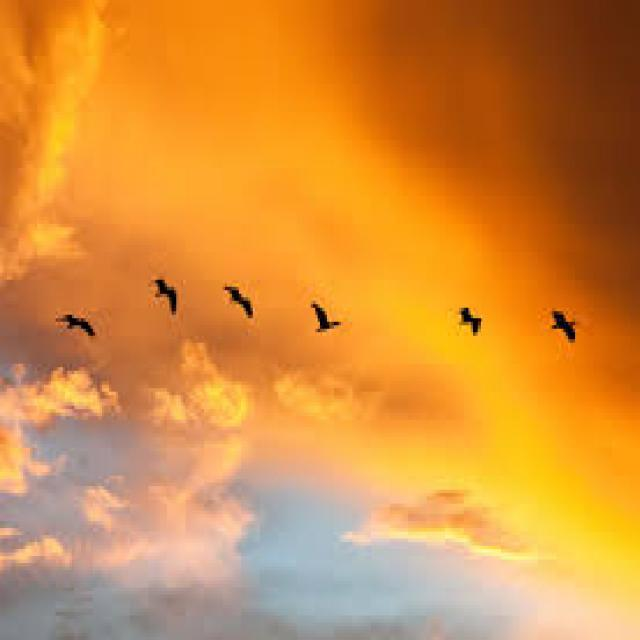bird: (296, 276, 359, 374), (222, 269, 288, 343), (438, 283, 487, 371), (136, 264, 190, 331), (538, 298, 582, 366), (52, 309, 103, 362)
